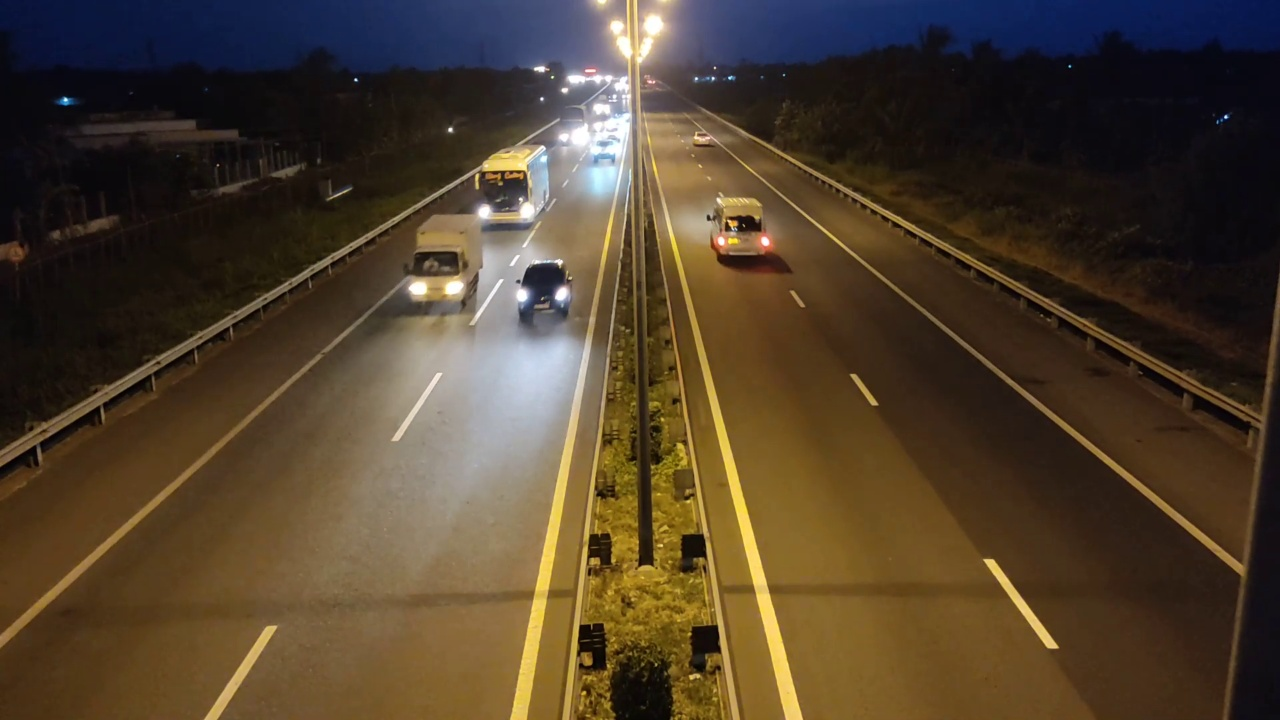bus: (477, 143, 551, 228)
car: (515, 259, 573, 321), (691, 131, 715, 147)
truck: (400, 206, 485, 317)
